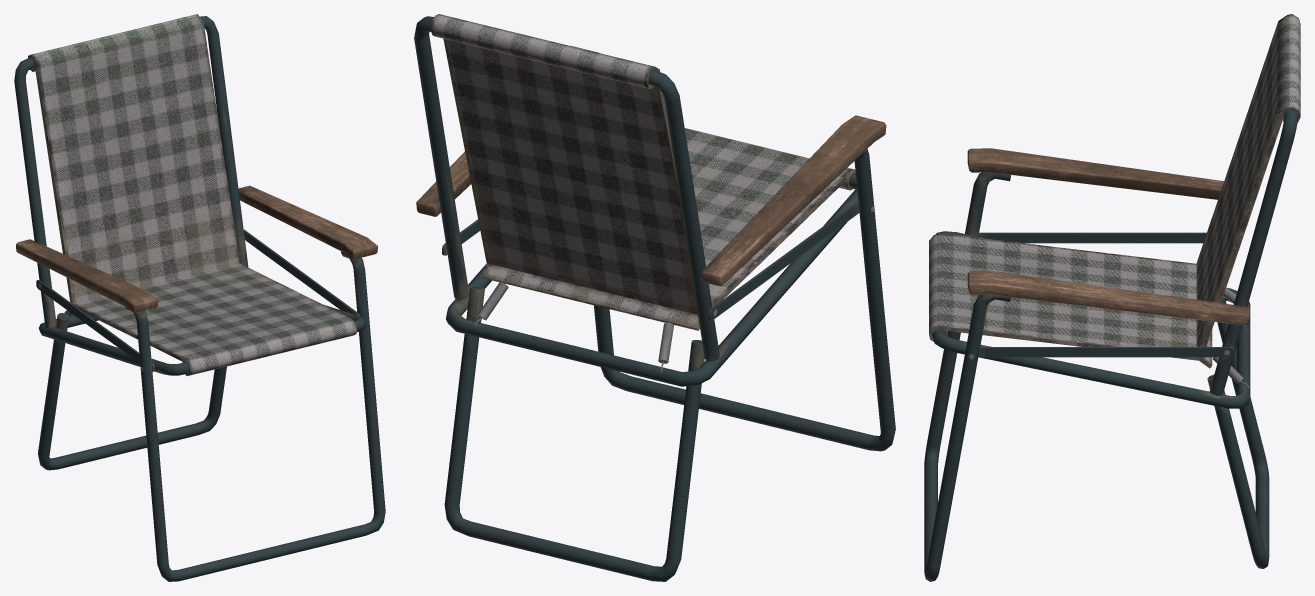
The model's file is chair.glb.
3 renders of one model, left to right at view 1: azimuth 30°, elevation 25°; view 2: azimuth 150°, elevation 25°; view 3: azimuth 270°, elevation 25°, orthographic. The views are drawn at different scales.
Parts seen in each view (by area): view 1: Chair_chair_0; view 2: Chair_chair_0; view 3: Chair_chair_0.
Boxes of the visible parts, left/top/right/bottom form: Chair_chair_0: left=14, top=14, right=385, bottom=581; Chair_chair_0: left=414, top=14, right=895, bottom=581; Chair_chair_0: left=924, top=14, right=1300, bottom=581.
Bounding box in the file's own units: 0.5661 × 0.8982 × 0.6592.
Materials: 1 (1 with a texture image).
